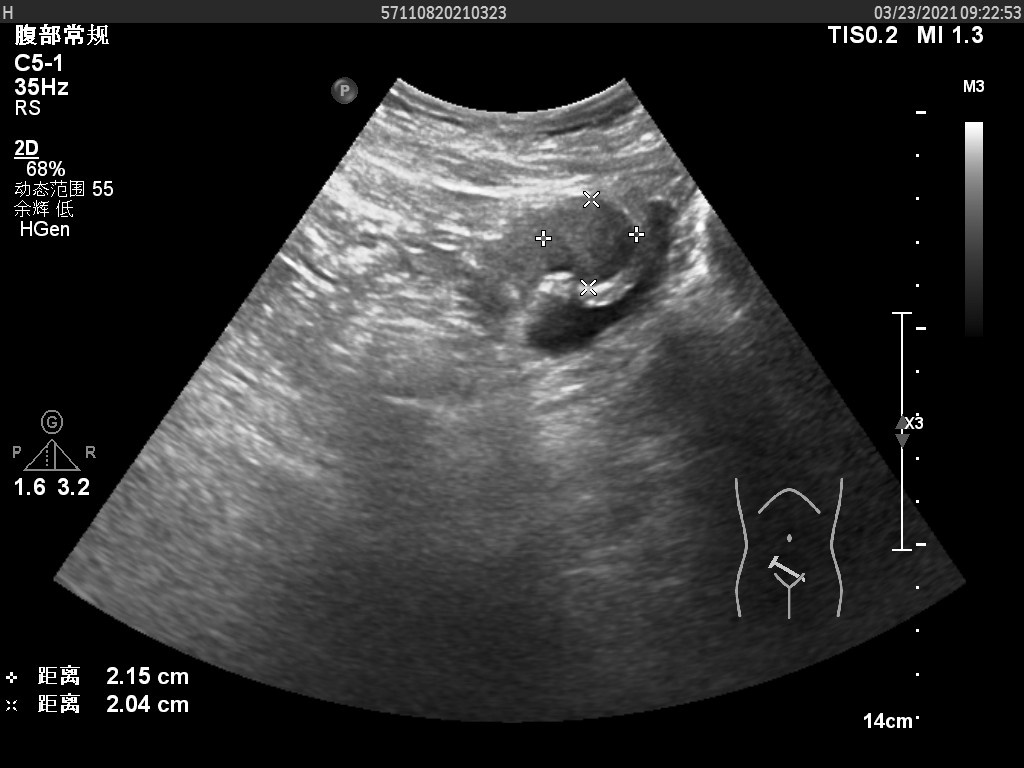肌瘤: (544, 197, 640, 288)
